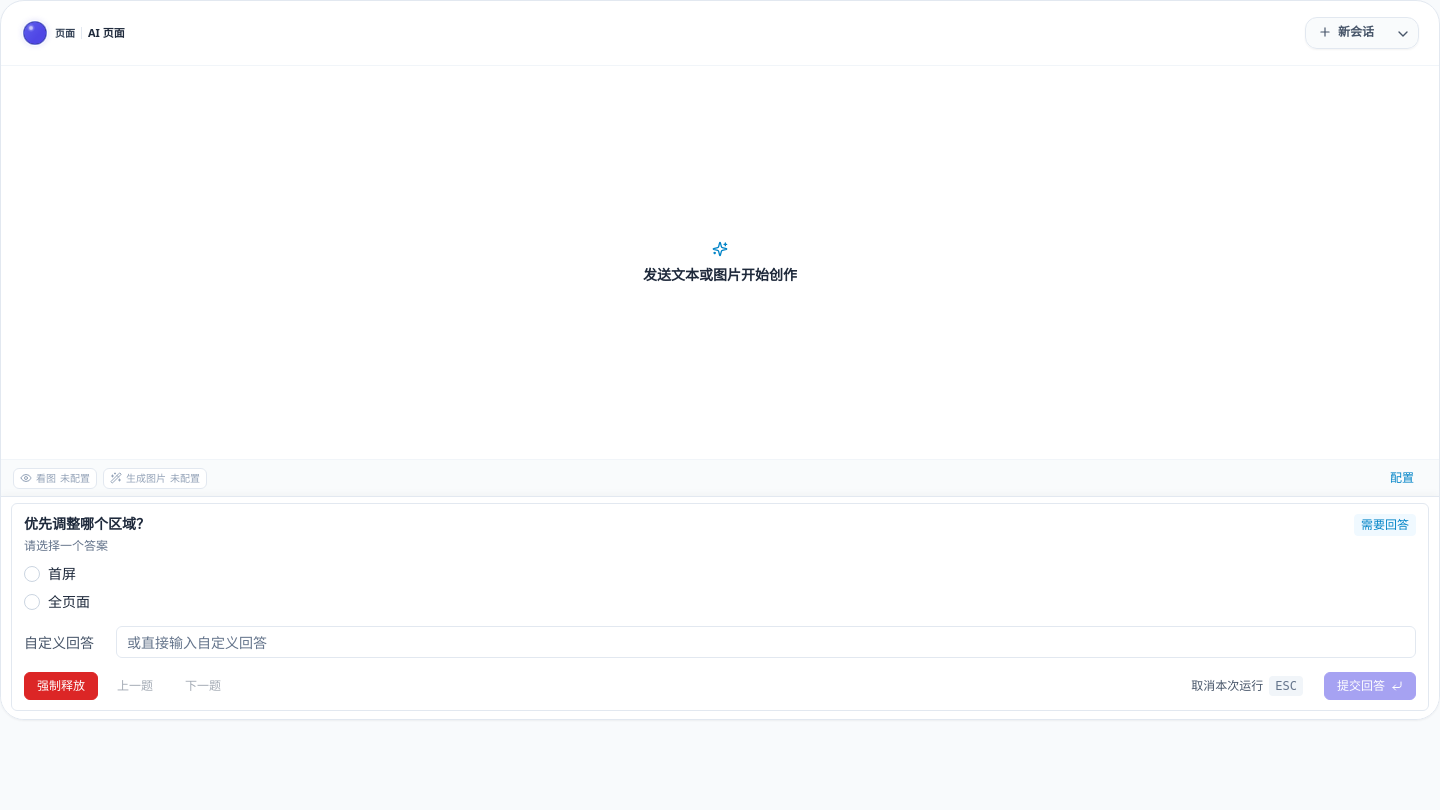
AgentConversationPanel › paused 结构化提问不应因残留 streaming 状态禁用提交按钮
Expected: the text "优先调整哪个区域？" is shown, [24,514,150,534]
Click the text "首屏" at (62, 574), box [48,564,76,584]
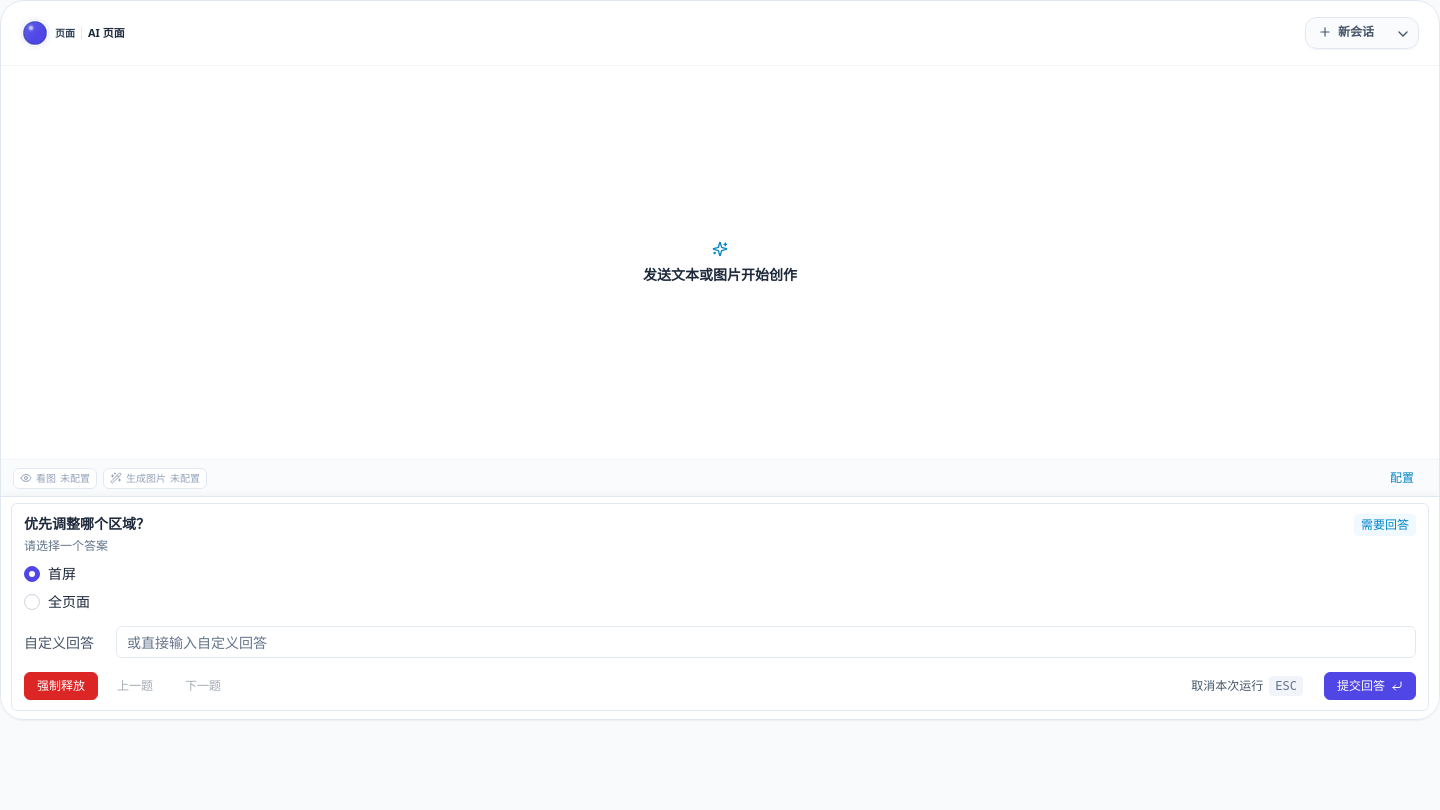
Now the button "提交回答" is enabled, box [1324,672,1416,700]
